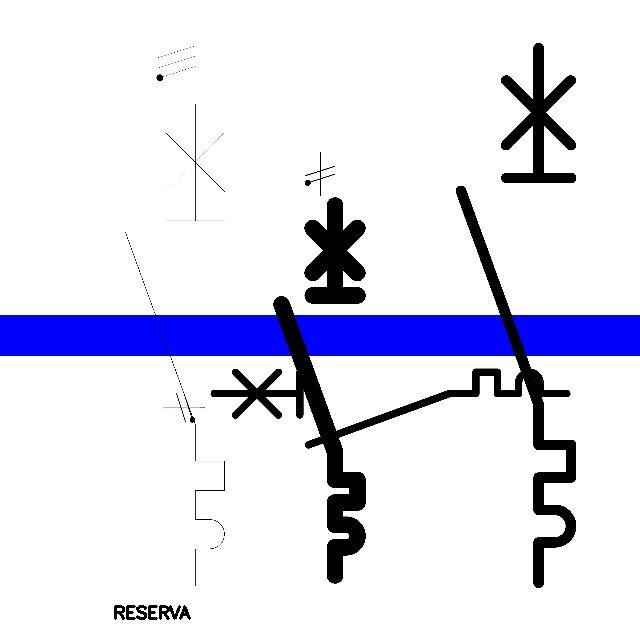interruptor_termomagnetico: (447, 34, 585, 597), (113, 91, 237, 598), (272, 195, 367, 584), (204, 363, 575, 453)
